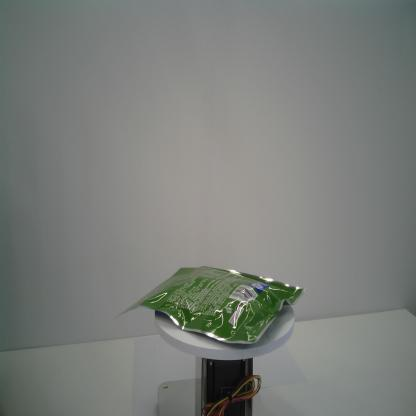Dried Fruit: (113, 263, 306, 349)
